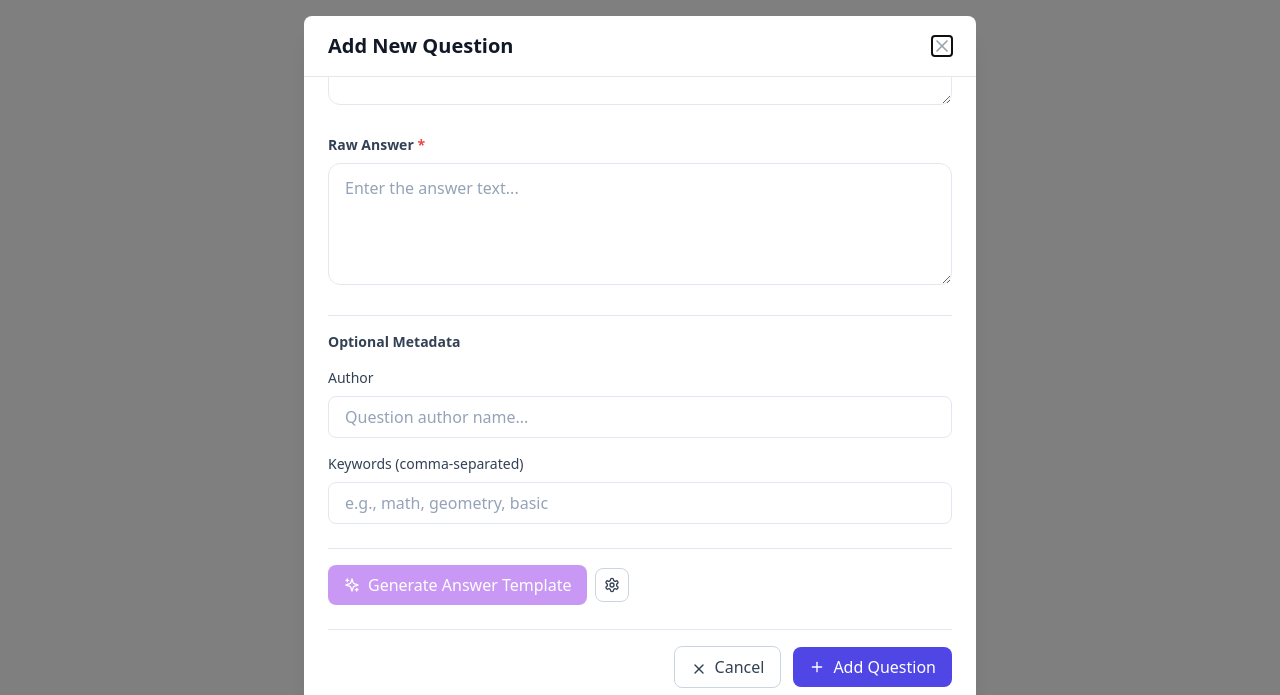
Test: AddQuestionModal › shows validation errors when submitting empty required fields
(page scrolled)
Click the button "Add Question".
click(873, 667)  # box [793, 647, 952, 687]
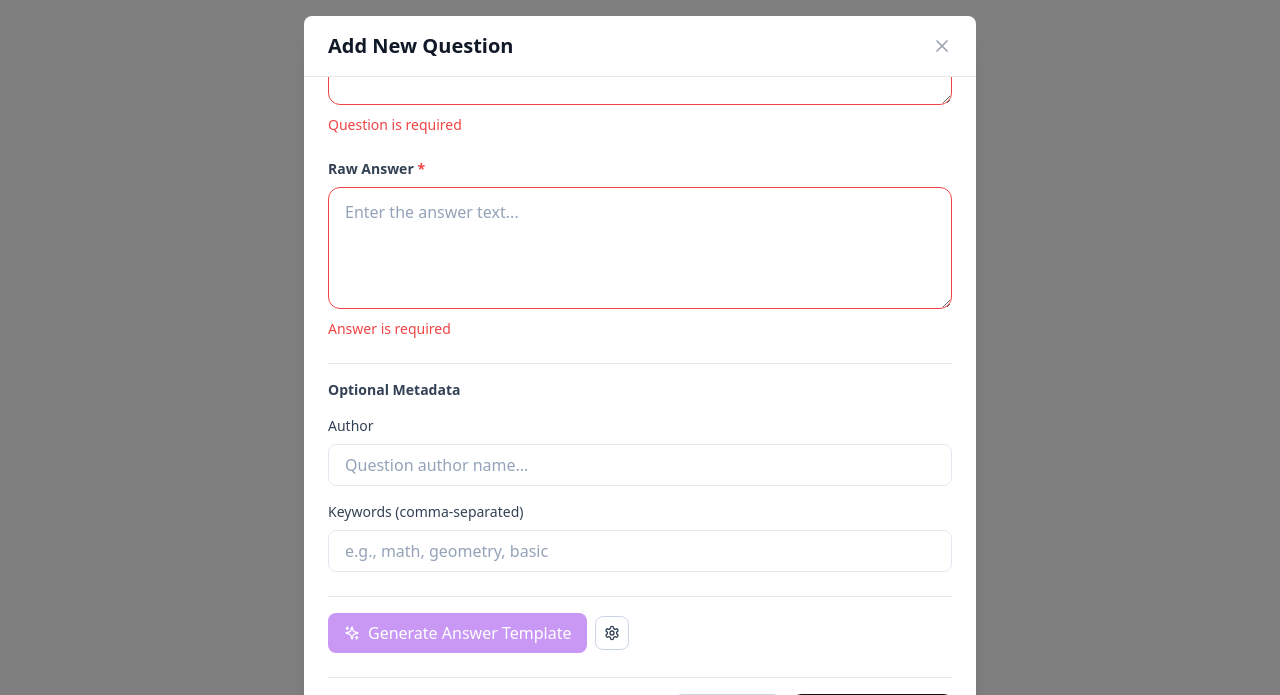
Expected: the text "Question is required" is shown, [328, 115, 462, 134]
Expected: the text "Answer is required" is shown, [328, 319, 451, 338]
